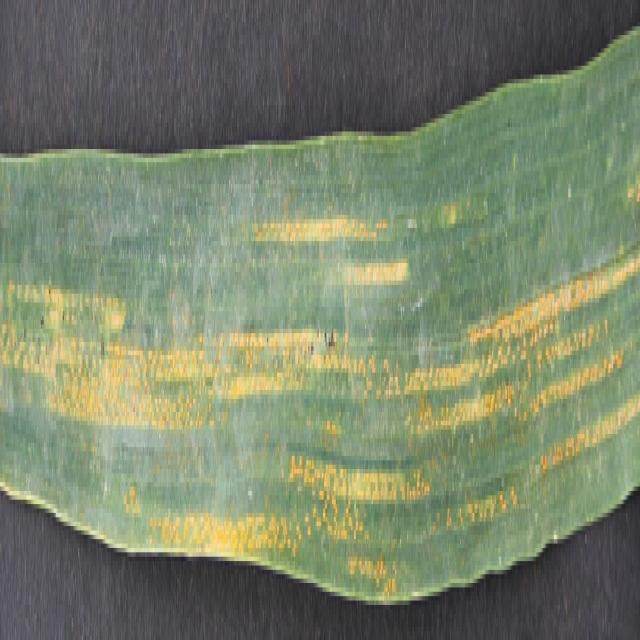leaf rust: (0, 179, 640, 600)
